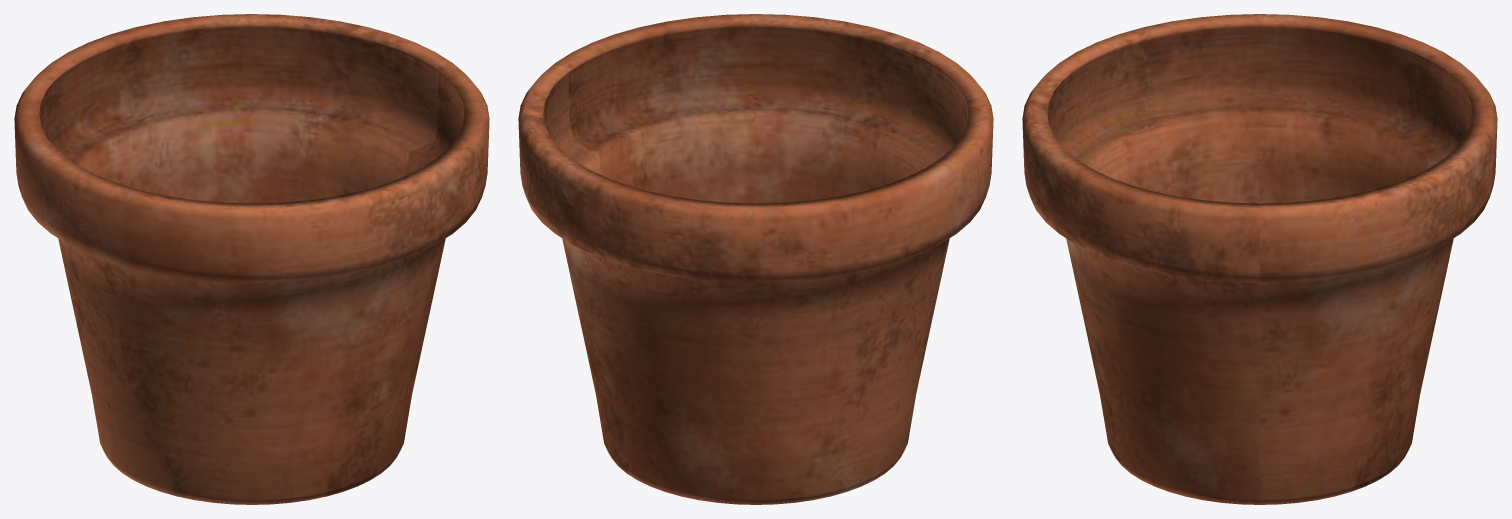
Rendered from pot_classic_web.glb.
3 renders of one model, left to right at view 1: azimuth 30°, elevation 25°; view 2: azimuth 150°, elevation 25°; view 3: azimuth 270°, elevation 25°, orthographic.
Parts seen in each view (by area): view 1: PotClassic_Mesh; view 2: PotClassic_Mesh; view 3: PotClassic_Mesh.
Part boxes in pixels (x1=…): PotClassic_Mesh: x1=14, y1=14, x2=489, y2=504; PotClassic_Mesh: x1=518, y1=14, x2=993, y2=504; PotClassic_Mesh: x1=1022, y1=14, x2=1497, y2=504.
Bounding box in the file's own units: 0.248 × 0.19 × 0.248.
Materials: 1 (1 with a texture image).
